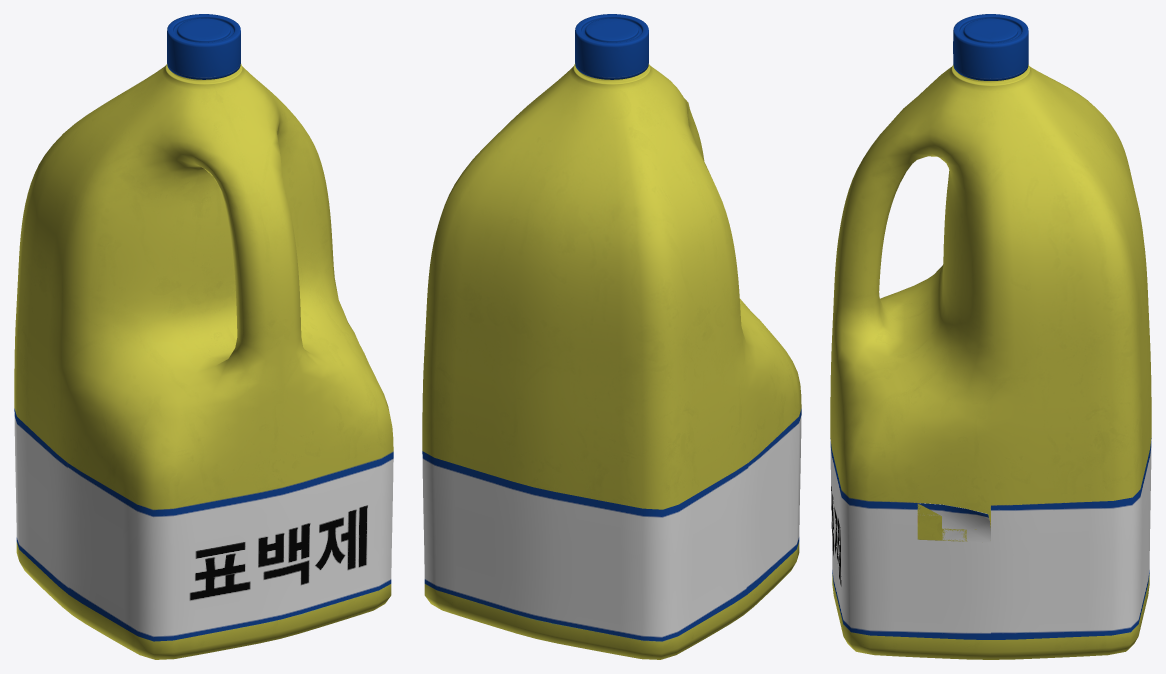
The model's file is Bleach.glb.
3 views of the same model, side by side, from view 1: azimuth 30°, elevation 25°; view 2: azimuth 150°, elevation 25°; view 3: azimuth 270°, elevation 25° (orthographic).
Bounding box in the file's own units: 2.1 × 3.93 × 2.01.
Materials: 1 (1 with a texture image).
